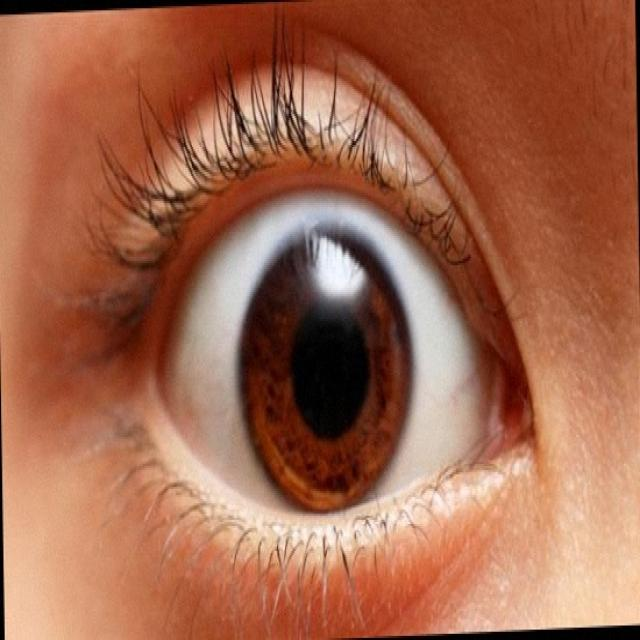Healthy-Eye: (79, 83, 554, 571)
